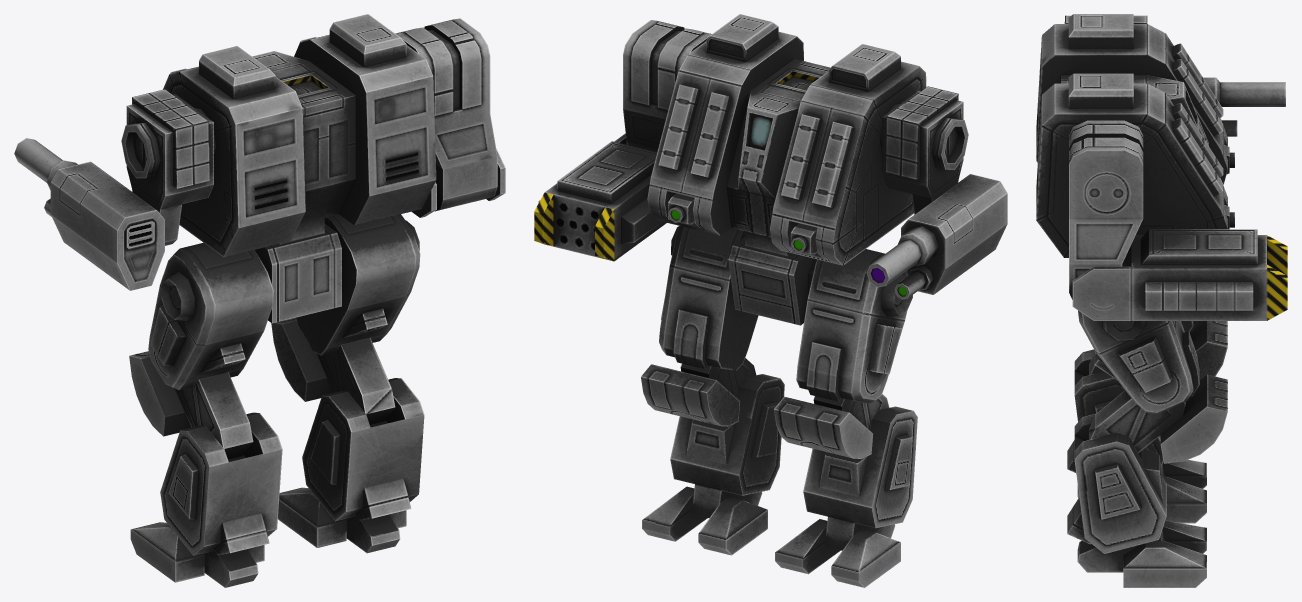
Rendered from Thanatos.FBX.
3 renders of one model, left to right at view 1: azimuth 30°, elevation 25°; view 2: azimuth 150°, elevation 25°; view 3: azimuth 270°, elevation 25°, orthographic. The views are drawn at different scales.
Visible parts, largest first — view 1: torso, lfoot, rfoot, lupperleg, rupperarm, llowerarm, rupperleg, lupperarm, rlowerleg, llowerleg, pelvis, lfronttoes (+2 smaller); view 2: torso, lupperleg, rlowerarm, lfoot, rupperleg, rfoot, llowerarm, lupperarm, rupperarm, pelvis, rlowerleg, llowerleg (+4 smaller); view 3: torso, rlowerarm, rfoot, rupperarm, rupperleg, rlowerleg, rfronttoes, lfronttoes, lfoot, llowerarm, llowerleg.
Boxes of the visible parts, bbox=[...] form: torso: bbox=[163, 14, 436, 257]; lfoot: bbox=[160, 412, 282, 587]; rfoot: bbox=[302, 378, 424, 553]; lupperleg: bbox=[148, 242, 273, 389]; rupperarm: bbox=[395, 18, 497, 211]; llowerarm: bbox=[14, 138, 164, 290]; rupperleg: bbox=[296, 214, 420, 355]; lupperarm: bbox=[121, 89, 213, 245]; rlowerleg: bbox=[271, 317, 395, 424]; llowerleg: bbox=[129, 351, 253, 459]; pelvis: bbox=[255, 224, 341, 323]; lfronttoes: bbox=[130, 522, 264, 582]; torso: bbox=[647, 14, 926, 265]; lupperleg: bbox=[796, 249, 912, 403]; rlowerarm: bbox=[534, 133, 666, 261]; lfoot: bbox=[803, 406, 917, 550]; rupperleg: bbox=[659, 226, 758, 370]; rfoot: bbox=[670, 374, 784, 517]; llowerarm: bbox=[866, 174, 1007, 299]; lupperarm: bbox=[882, 86, 968, 214]; rupperarm: bbox=[623, 20, 711, 151]; pelvis: bbox=[728, 236, 817, 325]; rlowerleg: bbox=[641, 358, 756, 426]; llowerleg: bbox=[774, 394, 889, 458]; torso: bbox=[1036, 14, 1227, 257]; rlowerarm: bbox=[1072, 229, 1287, 320]; rfoot: bbox=[1067, 413, 1166, 572]; rupperarm: bbox=[1069, 120, 1143, 299]; rupperleg: bbox=[1078, 310, 1199, 413]; rlowerleg: bbox=[1089, 374, 1227, 463]; rfronttoes: bbox=[1123, 520, 1206, 587]; lfronttoes: bbox=[1162, 459, 1206, 523]; lfoot: bbox=[1067, 349, 1164, 497]; llowerarm: bbox=[1203, 77, 1285, 136]; llowerleg: bbox=[1089, 321, 1227, 379].
Size of the model in its own units: 50.79 by 62.14 by 29.32.
Materials: 1 (1 with a texture image).
